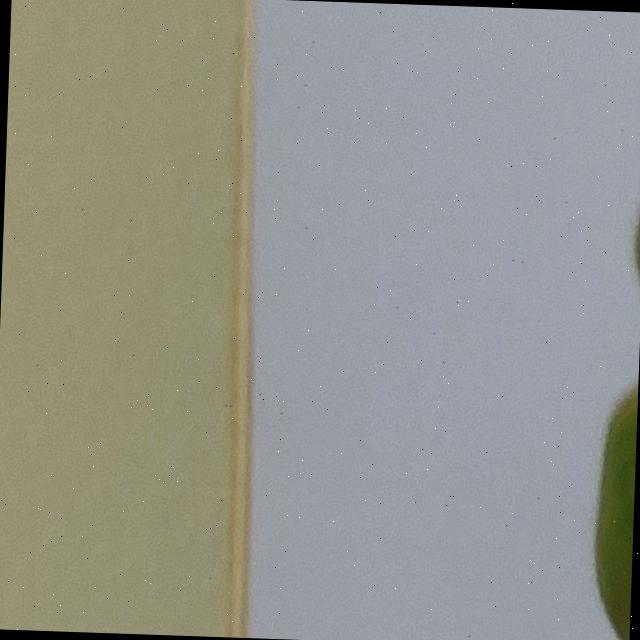tomato: (463, 6, 640, 640)
